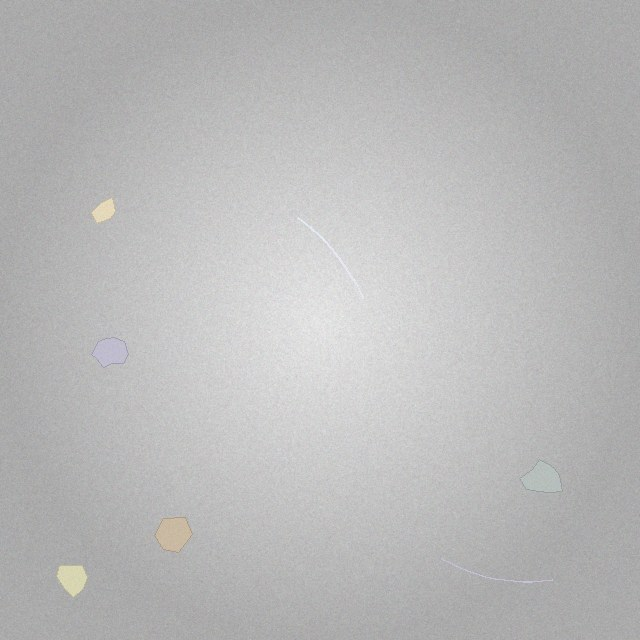fiber: (295, 215, 366, 301), (439, 556, 555, 584)
fragment: (519, 459, 562, 492), (154, 517, 192, 553), (91, 338, 129, 368), (56, 565, 87, 598), (91, 197, 115, 223)
